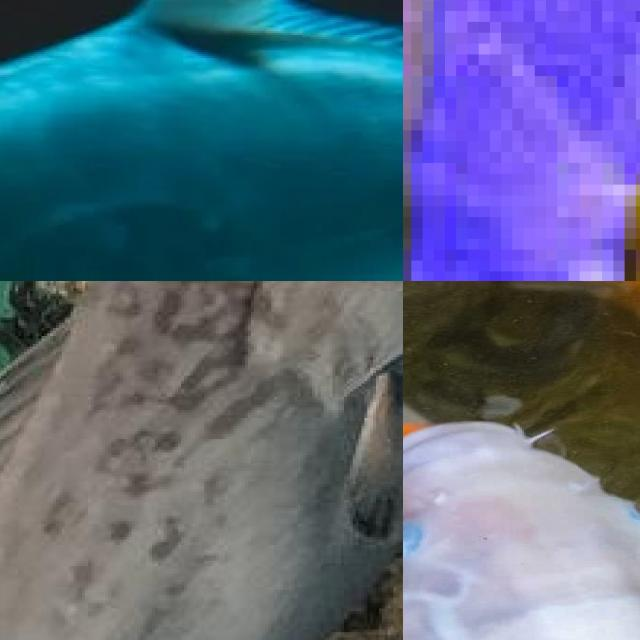fish: (0, 281, 403, 640), (0, 0, 403, 281)
